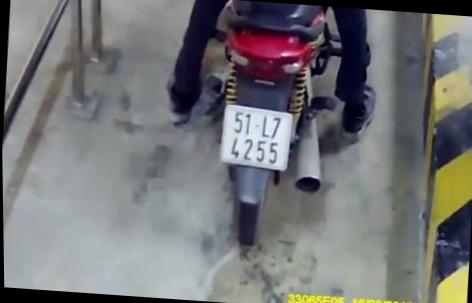LP: (216, 104, 294, 173)
